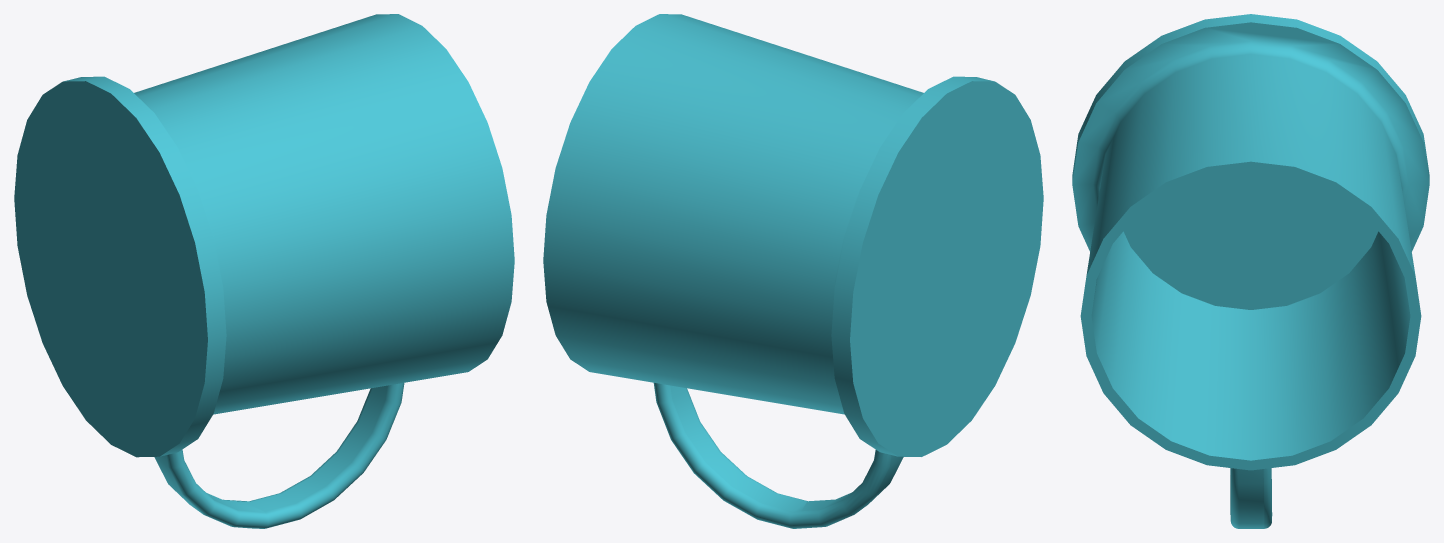
3 views of the same model, side by side, from view 1: azimuth 30°, elevation 25°; view 2: azimuth 150°, elevation 25°; view 3: azimuth 270°, elevation 25° (orthographic). The views are drawn at different scales.
Visible parts, largest first — view 1: Renderer Node; view 2: Renderer Node; view 3: Renderer Node.
Boxes of the visible parts, left/top/right/bottom form: Renderer Node: left=14, top=14, right=514, bottom=528; Renderer Node: left=543, top=14, right=1043, bottom=528; Renderer Node: left=1072, top=14, right=1429, bottom=528.
Bounding box in the file's own units: 0.4877 × 0.6967 × 0.526.
Materials: 1 (1 with a texture image).
